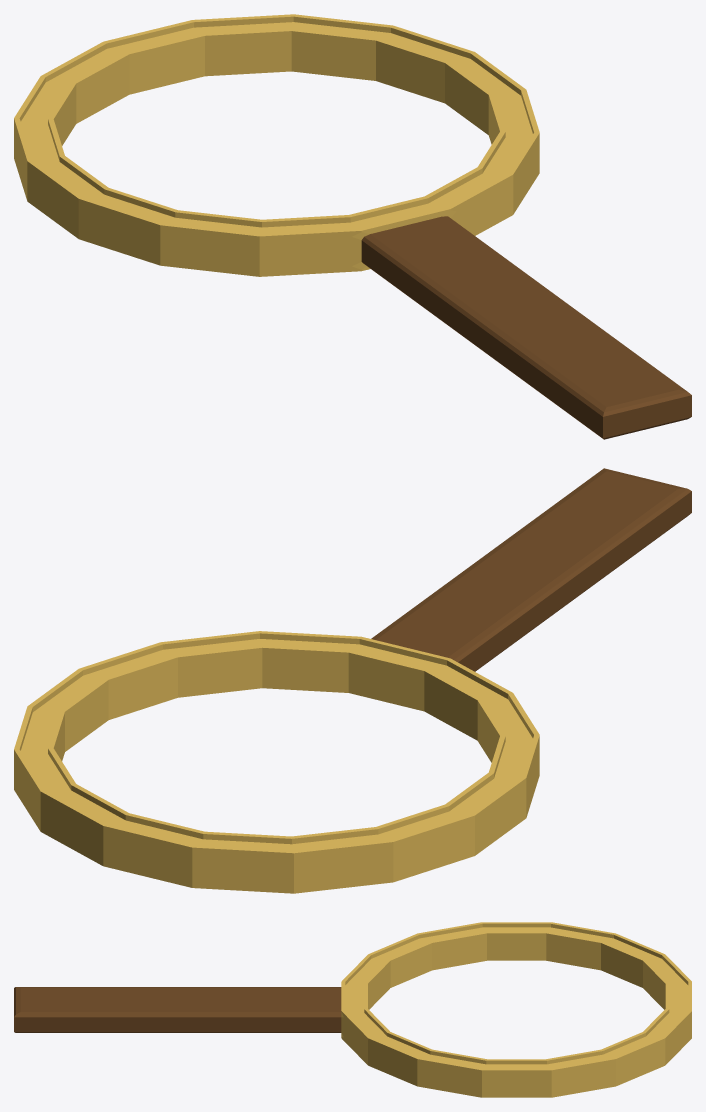
Rendered from readingglasses.fbx.
The picture shows the model from 3 angles, top to bottom: view 1: azimuth 30°, elevation 25°; view 2: azimuth 150°, elevation 25°; view 3: azimuth 270°, elevation 25°; orthographic projection. The views are drawn at different scales.
Parts seen in each view (by area): view 1: Circle.001; view 2: Circle.001; view 3: Circle.001.
Boxes of the visible parts, left/top/right/bottom form: Circle.001: left=14, top=14, right=691, bottom=439; Circle.001: left=14, top=468, right=691, bottom=893; Circle.001: left=14, top=922, right=691, bottom=1097.
Size of the model in its own units: 196 by 16.94 by 379.
